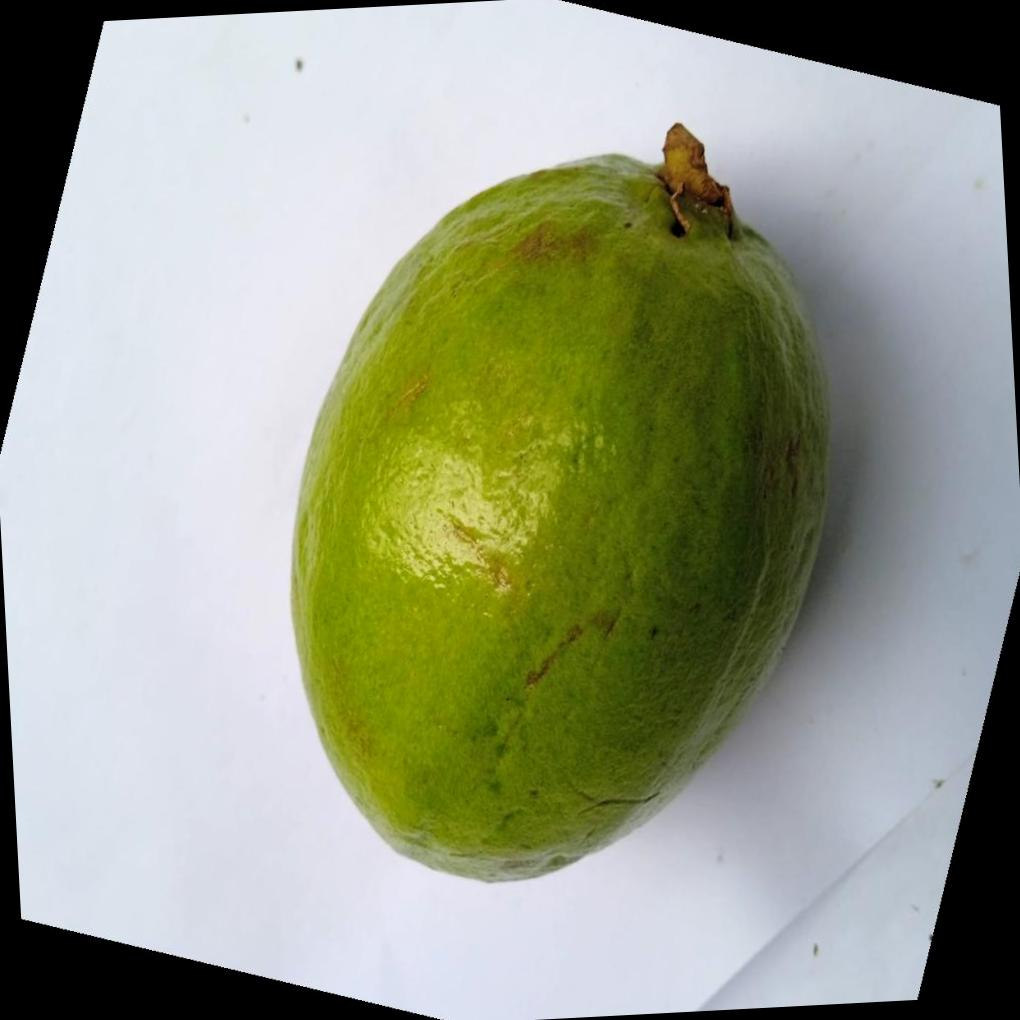FreshGuava: (287, 124, 833, 888)
